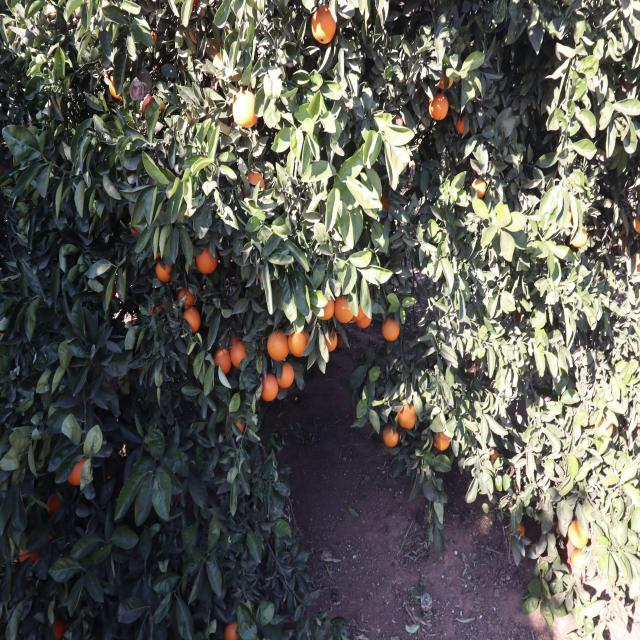Jeruk Sudah Matang: (230, 84, 260, 132), (64, 446, 96, 489), (590, 410, 622, 449), (193, 238, 220, 276), (312, 4, 336, 46), (18, 536, 40, 578), (152, 246, 176, 284), (240, 168, 266, 203), (50, 604, 74, 640), (288, 325, 313, 357), (44, 483, 68, 516), (231, 339, 255, 372), (567, 514, 590, 548), (206, 34, 230, 66), (32, 510, 56, 542), (266, 328, 290, 360), (462, 344, 486, 376), (222, 614, 250, 640), (398, 397, 418, 433), (429, 92, 451, 124), (233, 406, 253, 438), (335, 292, 355, 324), (314, 292, 336, 321), (570, 546, 591, 576), (433, 423, 453, 454), (276, 359, 296, 390), (126, 212, 147, 241), (382, 314, 402, 344), (143, 92, 163, 121), (456, 110, 474, 140), (610, 228, 628, 258), (109, 72, 128, 100), (260, 374, 279, 402), (181, 308, 201, 334), (438, 64, 456, 92), (359, 300, 374, 332), (176, 287, 196, 310), (382, 423, 399, 450), (510, 520, 527, 546), (485, 444, 503, 468), (215, 347, 232, 372), (377, 188, 392, 216), (146, 298, 164, 320), (471, 177, 488, 200), (142, 27, 160, 48), (229, 329, 245, 351), (628, 251, 640, 280), (324, 326, 336, 354), (352, 295, 365, 320), (192, 0, 210, 18), (190, 22, 204, 44), (629, 211, 640, 236), (337, 329, 344, 346)
